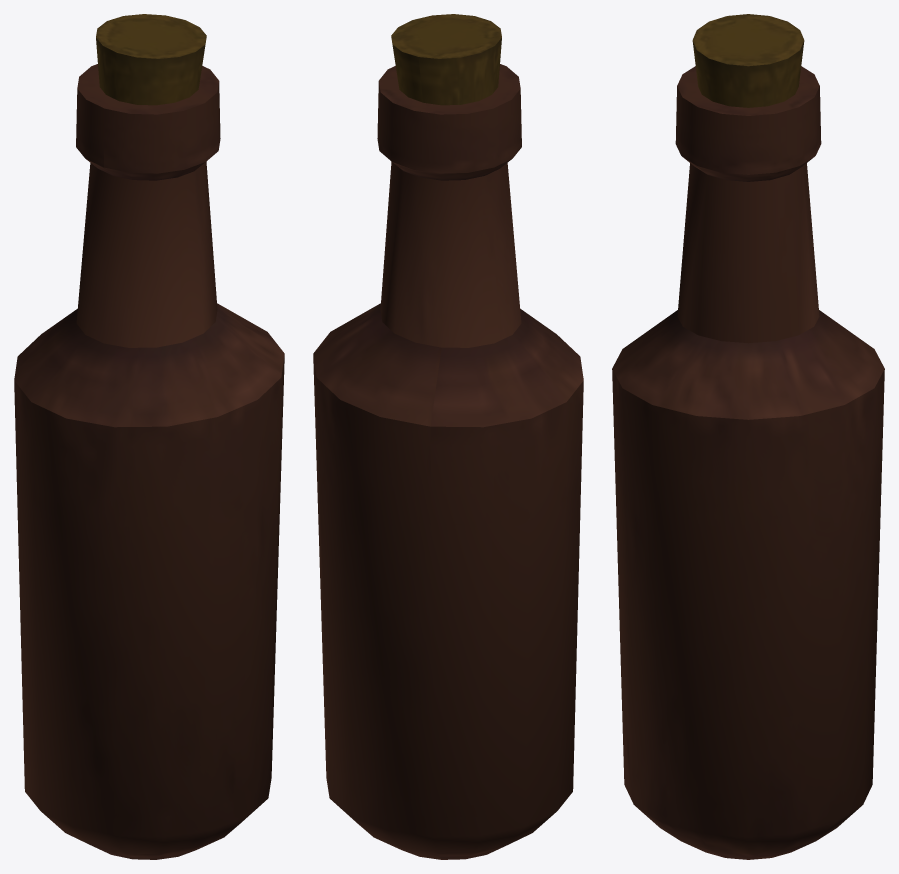
File: bottle.glb
3 views of the same model, side by side, from view 1: azimuth 30°, elevation 25°; view 2: azimuth 150°, elevation 25°; view 3: azimuth 270°, elevation 25° (orthographic).
Visible parts, largest first — view 1: Bottle_1; view 2: Bottle_1; view 3: Bottle_1.
Boxes of the visible parts, bbox=[...] form: Bottle_1: bbox=[14, 14, 284, 859]; Bottle_1: bbox=[313, 14, 583, 859]; Bottle_1: bbox=[612, 14, 884, 859].
Bounding box in the file's own units: 0.1127 × 0.3647 × 0.1129.
Materials: 1 (1 with a texture image).
